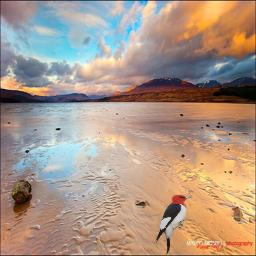Woodpecker: (155, 194, 192, 255)
